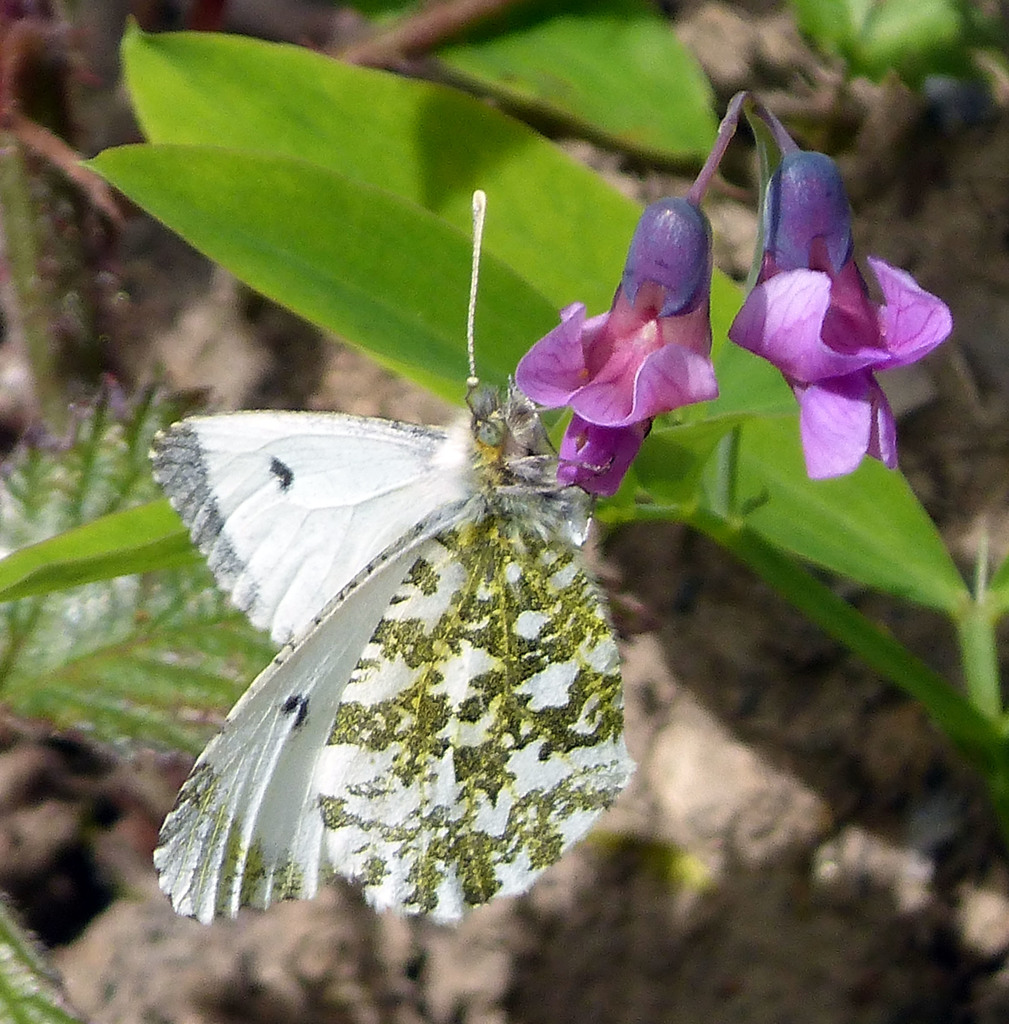Butterfly: (112, 340, 676, 927)
